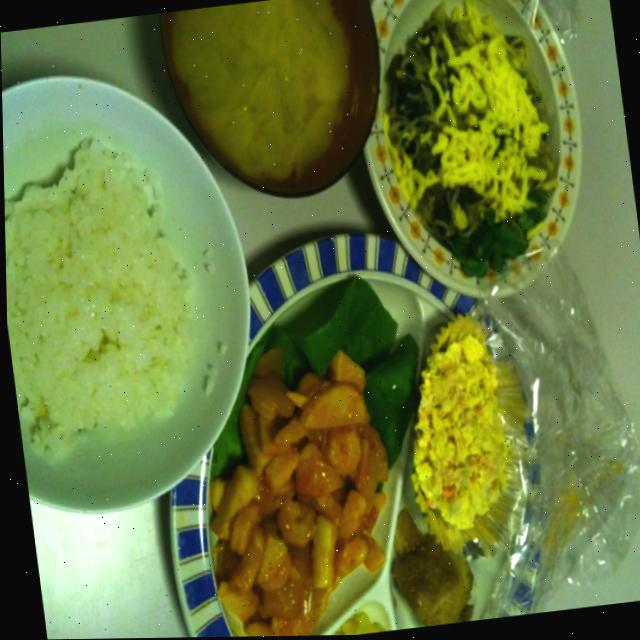米饭主食: (1, 38, 288, 527)
